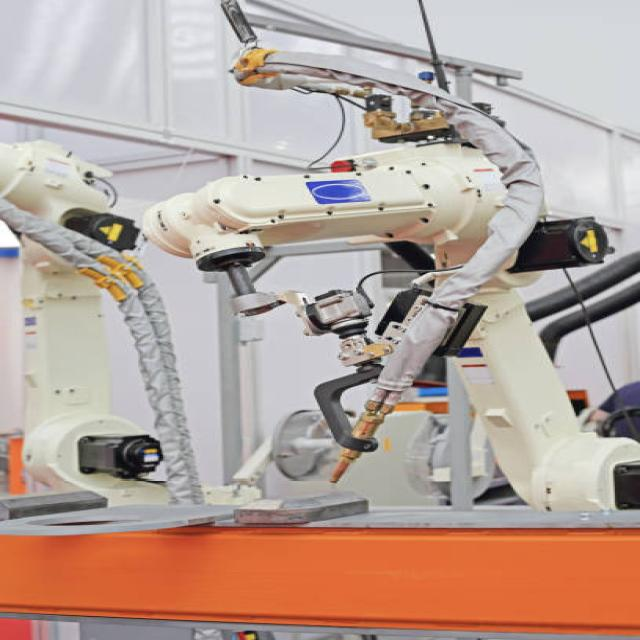Robotic-arm: (146, 142, 632, 526), (0, 118, 158, 510)
